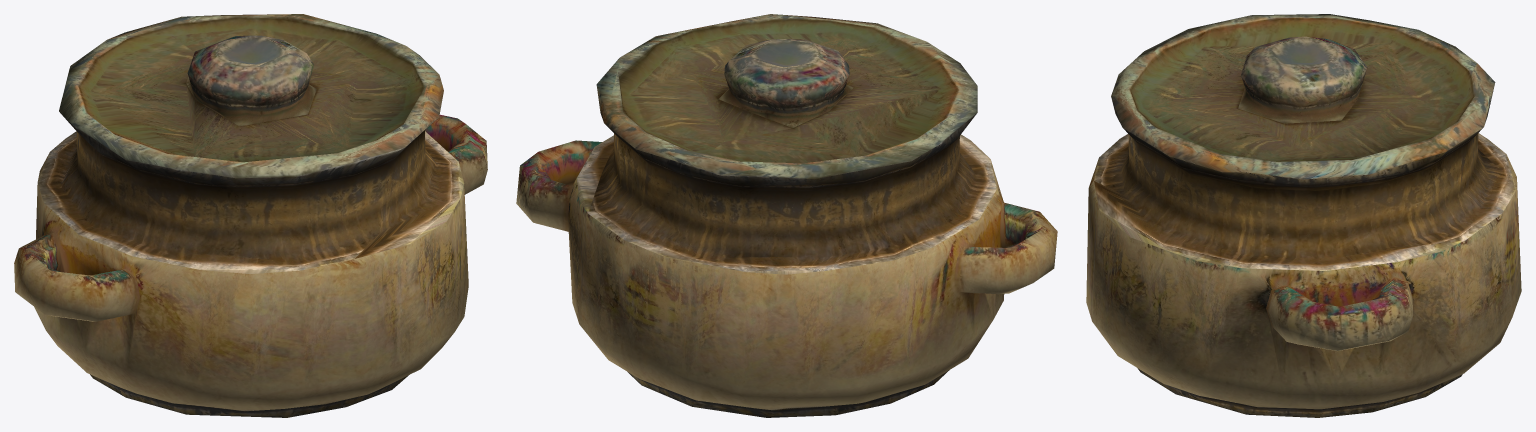
Rendered from StewPot.glb.
3 views of the same model, side by side, from view 1: azimuth 30°, elevation 25°; view 2: azimuth 150°, elevation 25°; view 3: azimuth 270°, elevation 25° (orthographic).
Parts seen in each view (by area): view 1: StewPot; view 2: StewPot; view 3: StewPot.
Boxes of the visible parts, <box> form: StewPot: <box>14,14,487,417</box>; StewPot: <box>516,14,1057,417</box>; StewPot: <box>1086,14,1521,417</box>.
Size of the model in its own units: 0.6463 by 0.3712 by 0.5017.
Materials: 1 (1 with a texture image).
